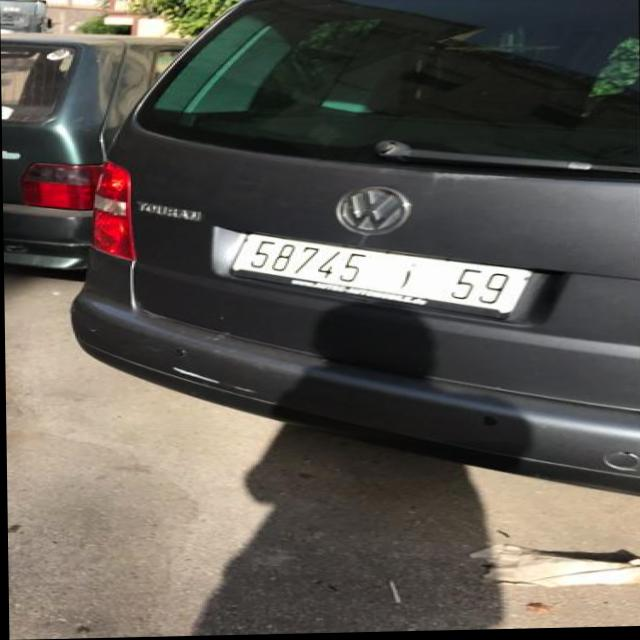License-Plate: (230, 236, 529, 316)
